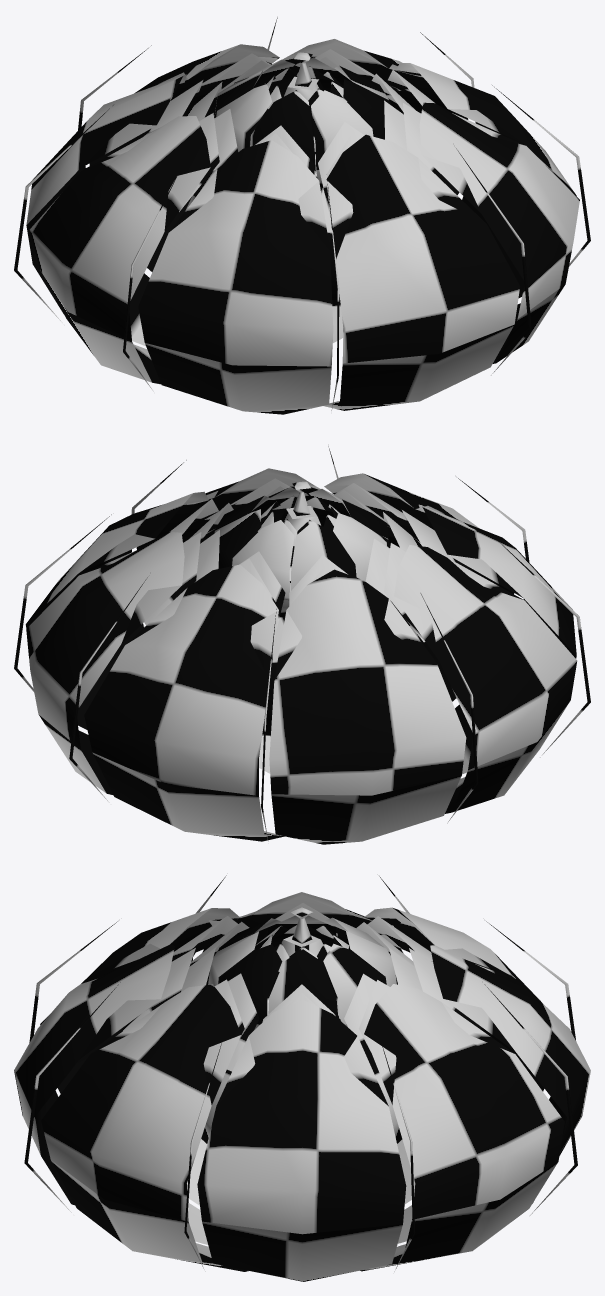
Rendered from kucurbium.obj.
3 views of the same model, one above another, from view 1: azimuth 30°, elevation 25°; view 2: azimuth 150°, elevation 25°; view 3: azimuth 270°, elevation 25° (orthographic). The views are drawn at different scales.
Visible parts, largest first — view 1: kucurbium-outer, kucurbium-inner; view 2: kucurbium-outer, kucurbium-inner; view 3: kucurbium-outer, kucurbium-inner.
Part boxes in pixels (left/top/right/bottom): kucurbium-outer: left=14, top=17, right=590, bottom=414; kucurbium-inner: left=186, top=52, right=390, bottom=306; kucurbium-outer: left=14, top=446, right=590, bottom=844; kucurbium-inner: left=214, top=481, right=419, bottom=736; kucurbium-outer: left=14, top=875, right=590, bottom=1281; kucurbium-inner: left=201, top=907, right=402, bottom=1143.
Size of the model in its own units: 37.31 by 24.06 by 37.31.
2 materials, 2 textured.
